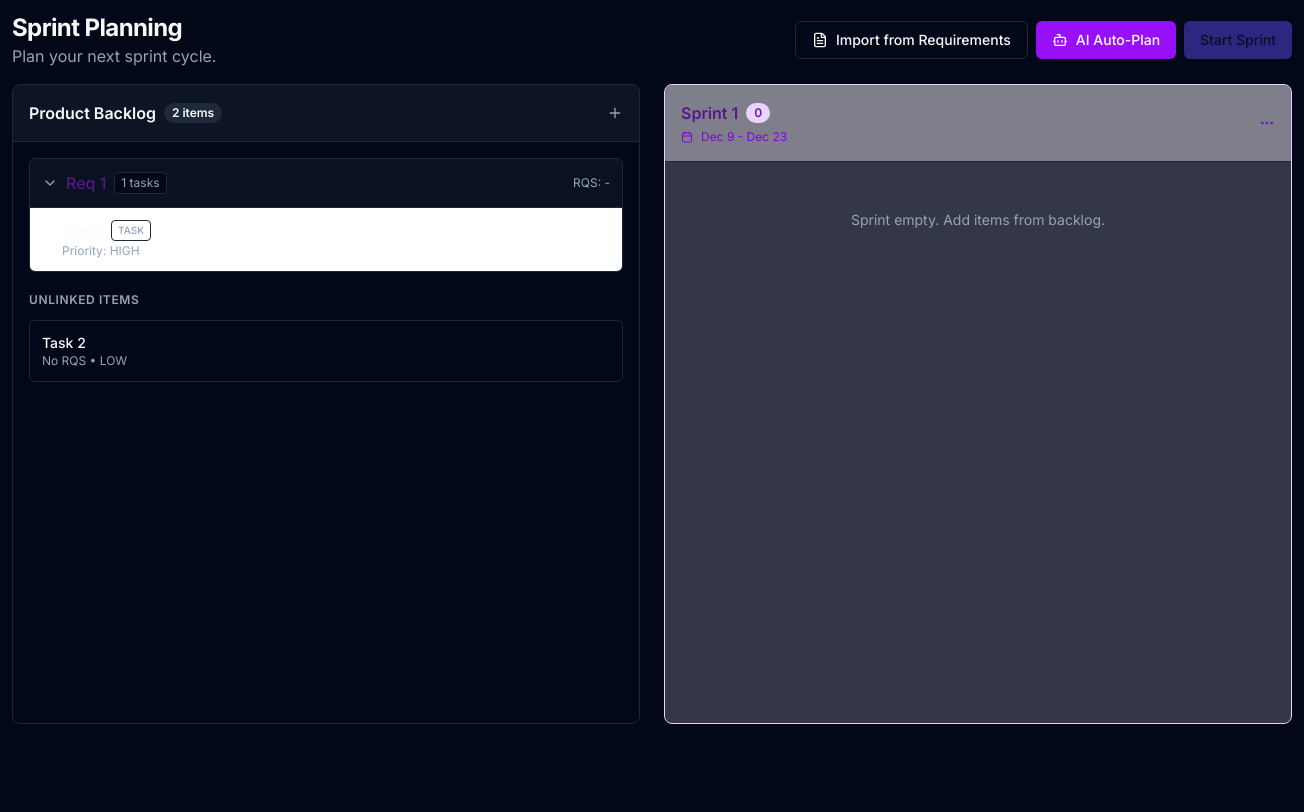
PlanningPage › AI auto-plan functionality
Expected: the text "Req 1" is shown, [66, 171, 106, 195]
Click the button "AI Auto-Plan" at x=1106, y=40, box [1036, 21, 1176, 59]
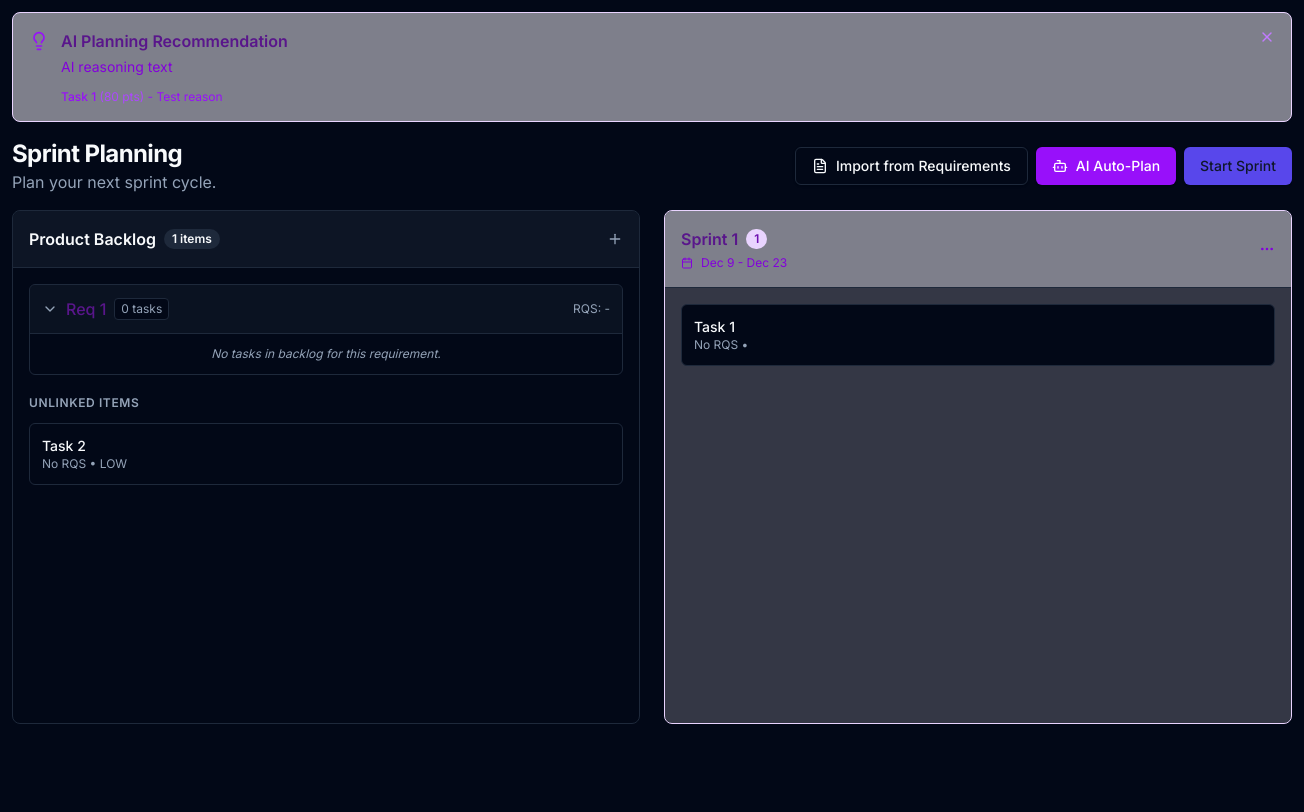
Now the heading "AI Planning Recommendation" is shown, box [61, 31, 288, 51]
Now the text "AI reasoning text" is shown, box [61, 58, 173, 75]
